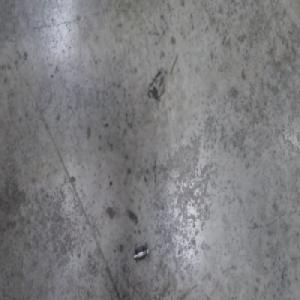Bolt: (134, 243, 151, 264)
